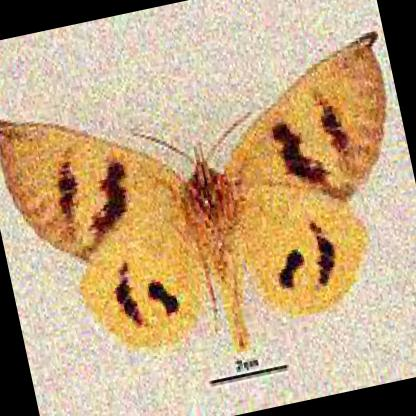fruit sucking moth: (0, 33, 387, 350)
